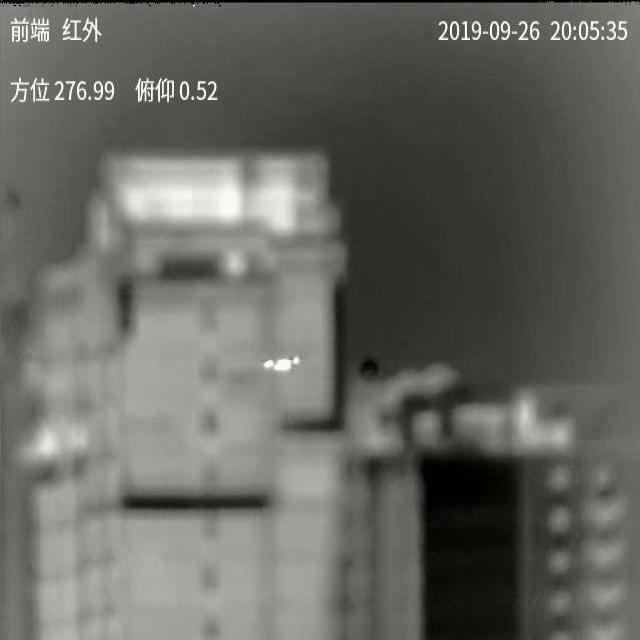drone: (263, 357, 300, 371)
